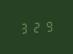nine: (43, 19, 54, 32)
three: (18, 21, 29, 34)
two: (31, 20, 42, 33)
